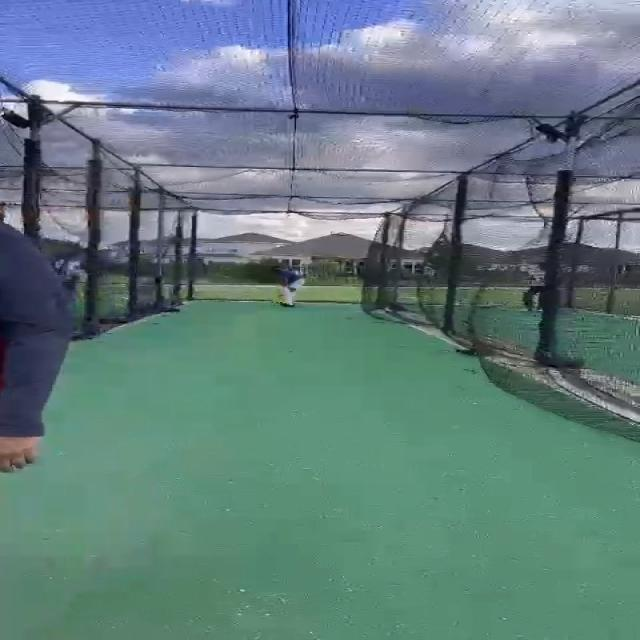batsman: (268, 264, 307, 308)
